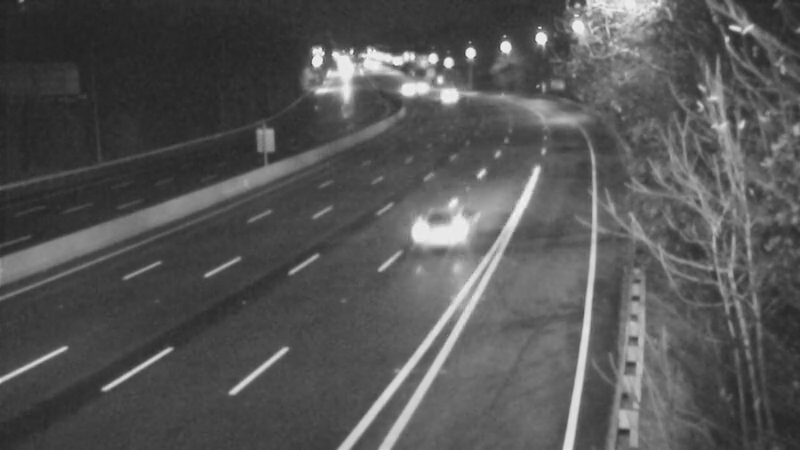vehicle: (429, 177, 509, 257), (397, 61, 447, 111), (379, 61, 429, 111), (423, 70, 473, 120)
